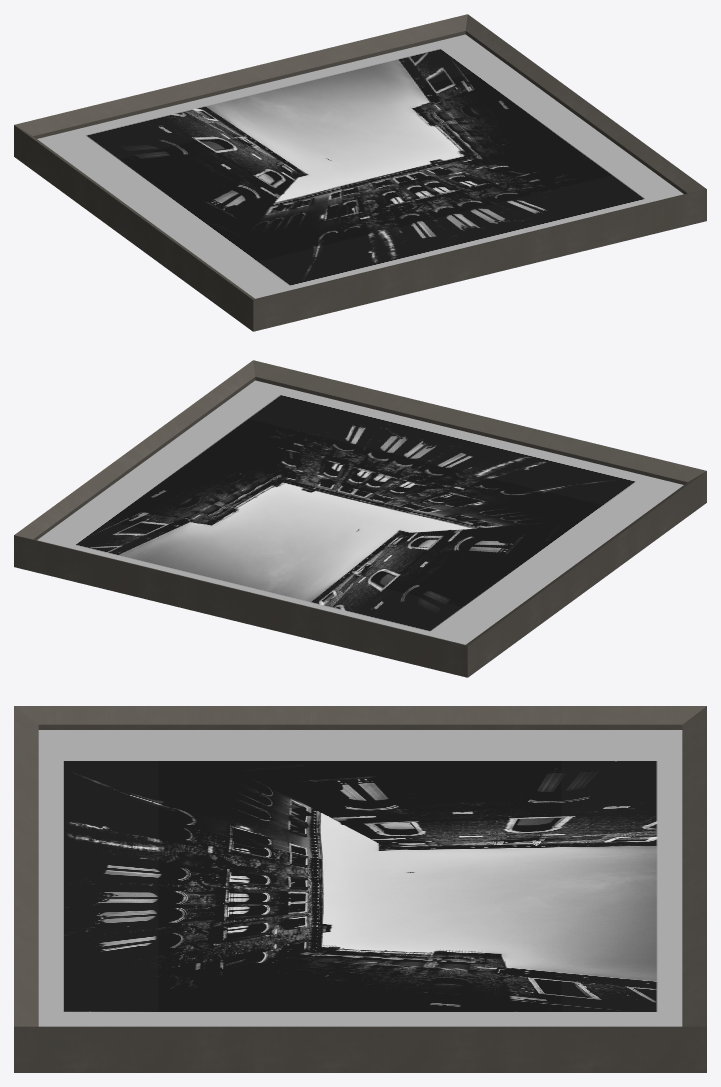
Rendered from Frame.glb.
3 views of the same model, one above another, from view 1: azimuth 30°, elevation 25°; view 2: azimuth 150°, elevation 25°; view 3: azimuth 270°, elevation 25° (orthographic). The views are drawn at different scales.
Parts seen in each view (by area): view 1: Main_Area, Box001; view 2: Main_Area, Box001; view 3: Main_Area, Box001.
Boxes of the visible parts, left/top/right/bottom form: Main_Area: left=37, top=34, right=683, bottom=298; Box001: left=14, top=14, right=706, bottom=331; Main_Area: left=37, top=380, right=683, bottom=644; Box001: left=14, top=360, right=706, bottom=677; Main_Area: left=38, top=730, right=682, bottom=1026; Box001: left=14, top=706, right=706, bottom=1072.
Bounding box in the file's own units: 52.79 × 3.54 × 48.19.
2 materials, 2 textured.
